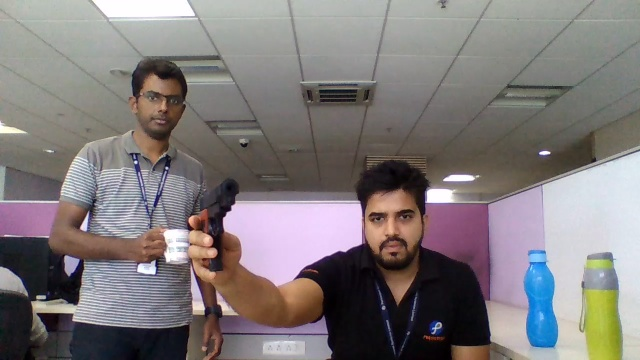gun: (196, 179, 238, 223)
